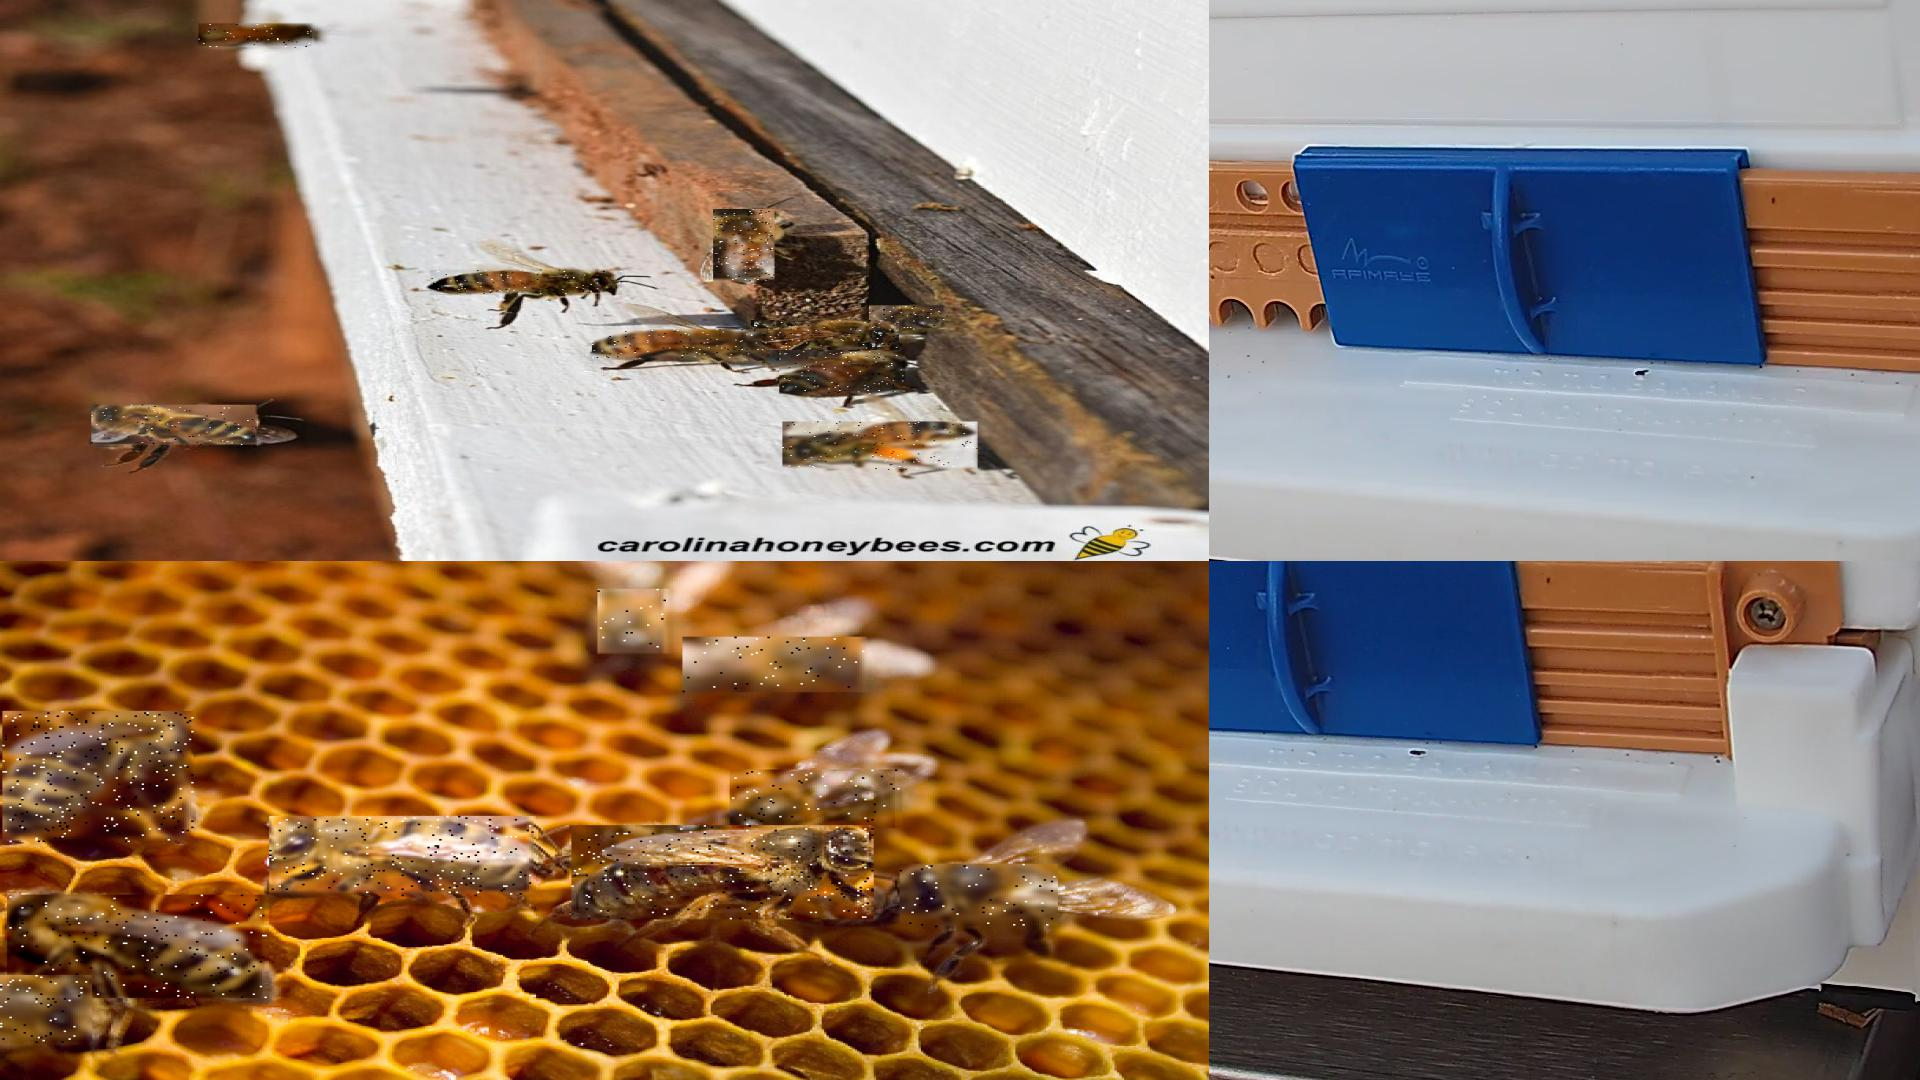bee: (9, 894, 271, 1000), (4, 712, 198, 846), (271, 818, 541, 900), (684, 637, 873, 694), (900, 865, 1061, 930), (731, 770, 904, 830), (92, 405, 258, 448), (0, 976, 95, 1046), (780, 352, 906, 395), (430, 269, 624, 296), (593, 330, 767, 360), (599, 589, 675, 656), (751, 320, 901, 351), (713, 210, 776, 282), (200, 24, 318, 49), (870, 306, 952, 330)
pollenbee: (783, 422, 980, 471)
queen: (572, 825, 877, 921)
